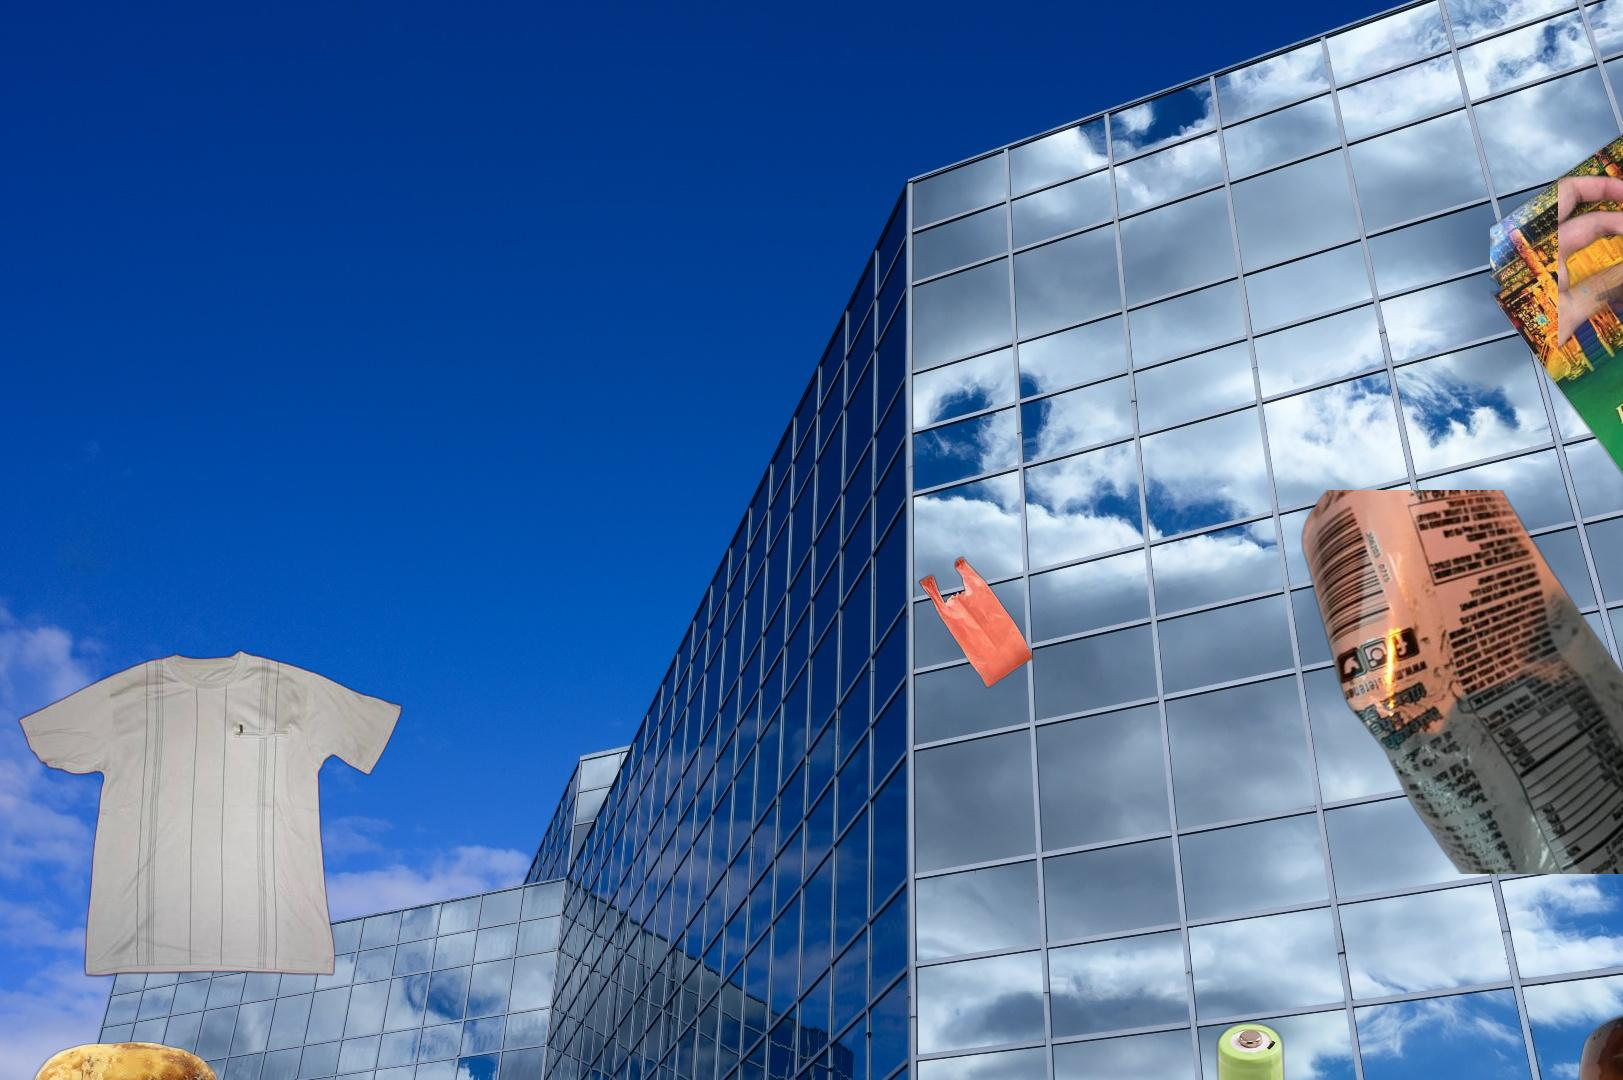battery: (1212, 1017, 1584, 1080)
biological: (0, 1040, 236, 1080)
clothes: (15, 645, 406, 981)
glass: (1565, 1008, 1623, 1080)
metal-cans: (1297, 490, 1623, 874)
paper: (1490, 126, 1623, 510)
plastic-bag: (916, 555, 1036, 689)
shoes: (1558, 6, 1623, 406)
